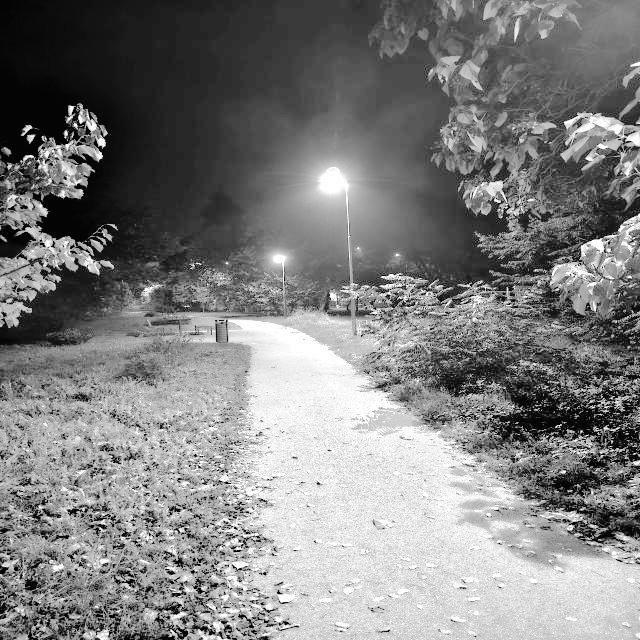Light: (324, 166, 359, 336), (273, 256, 287, 326)
